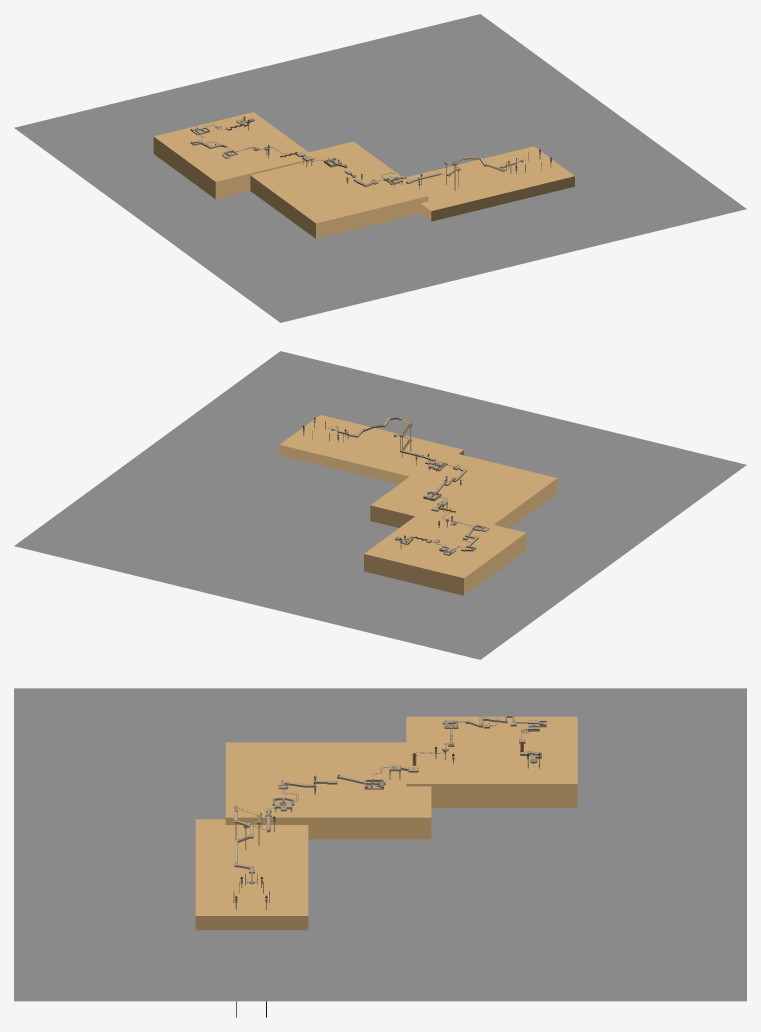
File: Level1.FBX
The picture shows the model from 3 angles, top to bottom: view 1: azimuth 30°, elevation 25°; view 2: azimuth 150°, elevation 25°; view 3: azimuth 270°, elevation 25°; orthographic projection. The views are drawn at different scales.
Visible parts, largest first — view 1: SkyLayer, Quader02, Quader01, Quader03; view 2: SkyLayer, Quader01, Quader02, Quader03; view 3: SkyLayer, Quader02, Quader01, Quader03.
Boxes of the visible parts, x1,y1,x2,y2 form: SkyLayer: [14, 14, 746, 322]; Quader02: [250, 141, 428, 238]; Quader01: [153, 112, 315, 199]; Quader03: [405, 146, 574, 221]; SkyLayer: [14, 351, 746, 659]; Quader01: [364, 508, 526, 595]; Quader02: [370, 450, 557, 528]; Quader03: [279, 415, 463, 484]; SkyLayer: [14, 688, 746, 1001]; Quader02: [225, 742, 431, 839]; Quader01: [406, 716, 577, 807]; Quader03: [195, 819, 308, 930].
Size of the model in its own units: 1893 by 436 by 1873.
34 materials, 28 textured.
